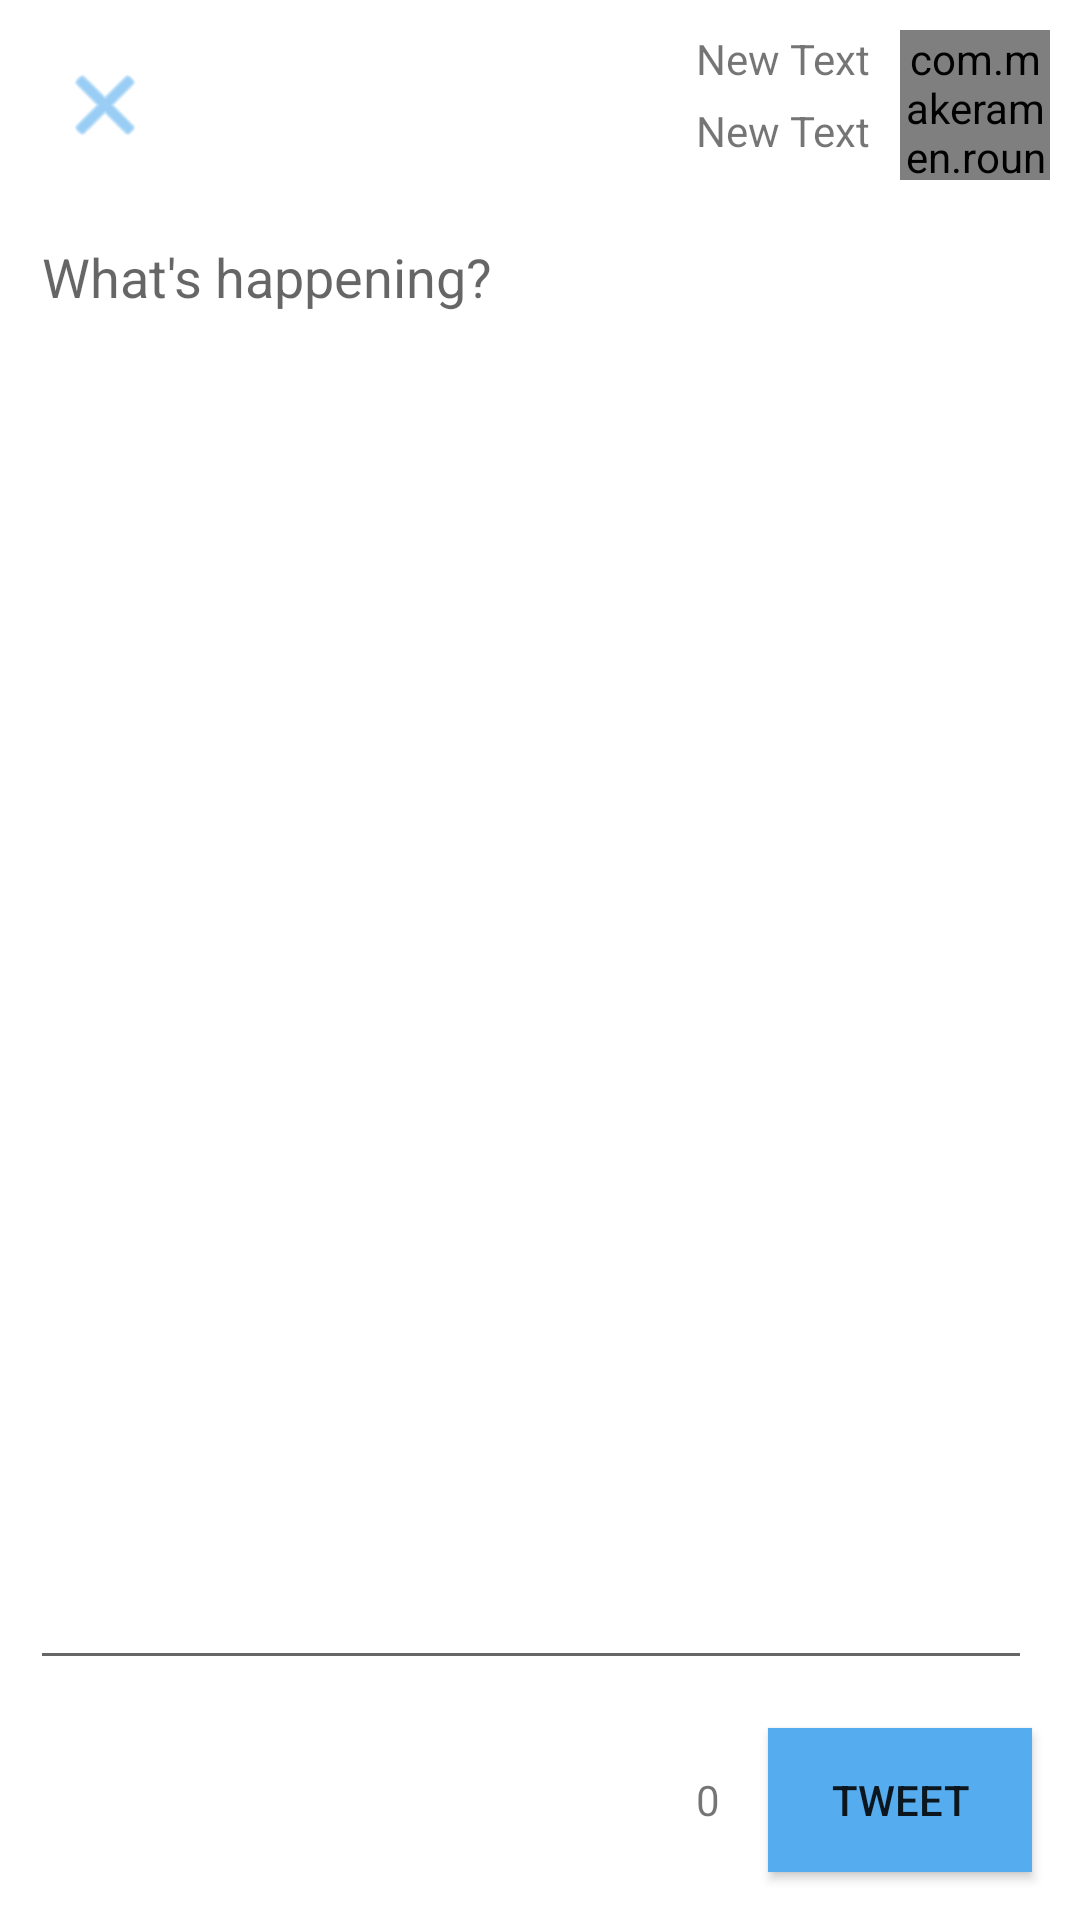

Point at icon controls on the screen. Image size 1080*1920, points as (x=x, y=y).
close clear cancel: (x=105, y=105)
